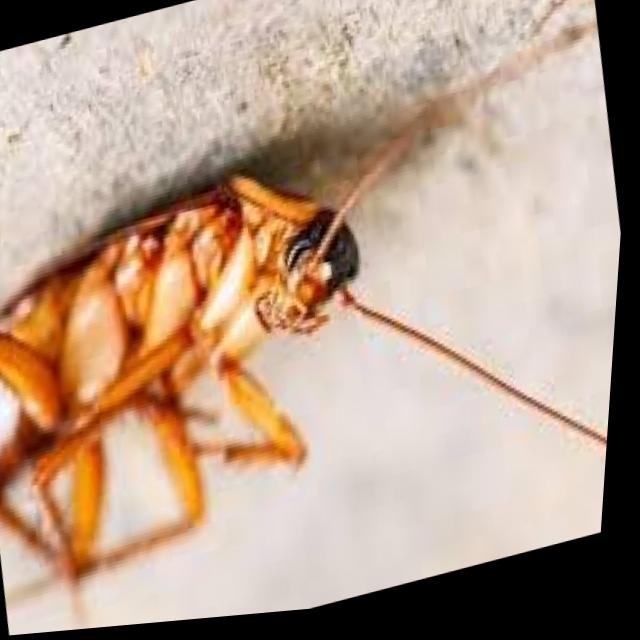Cockroach: (0, 16, 637, 640)
